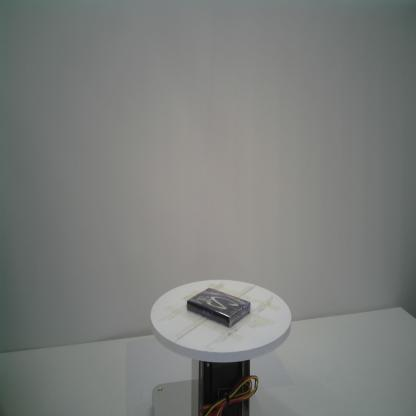Gum: (186, 287, 252, 328)
